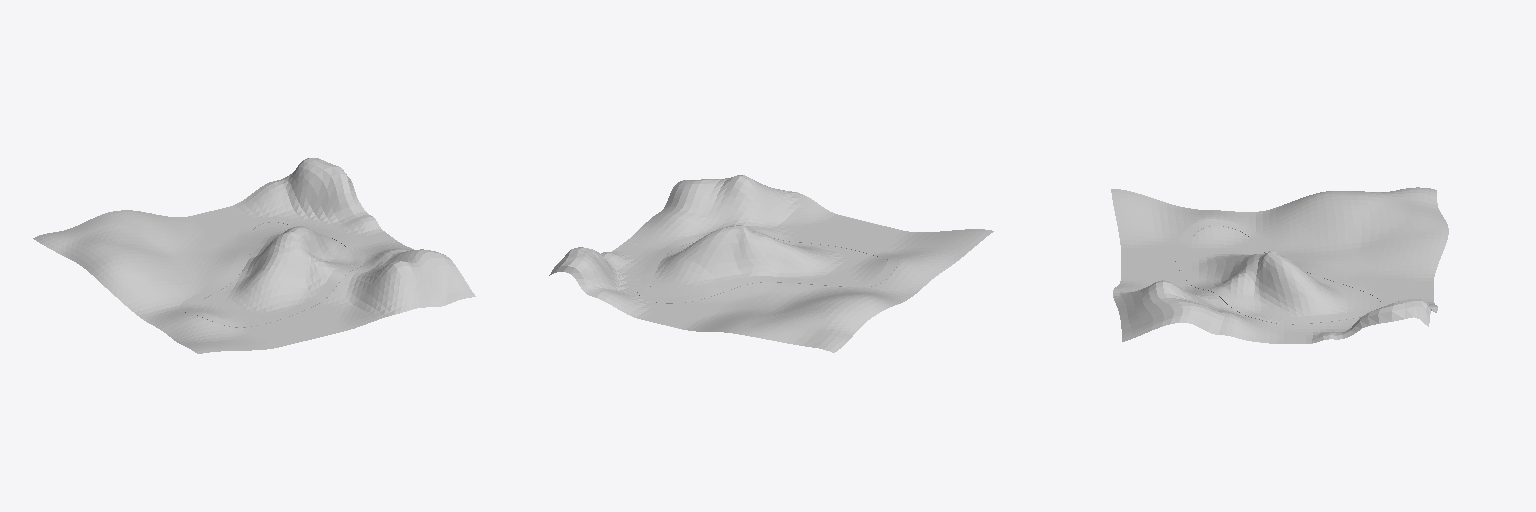
Rendered from dirt_track_w_terrain.obj.
The picture shows the model from 3 angles: view 1: azimuth 30°, elevation 25°; view 2: azimuth 150°, elevation 25°; view 3: azimuth 270°, elevation 25°; orthographic projection.
Visible parts, largest first — view 1: terrain, Cube; view 2: terrain, Cube; view 3: terrain, Cube.
Boxes of the visible parts, x1,y1,x2,y2 form: terrain: [33, 158, 475, 353]; Cube: [178, 217, 365, 327]; terrain: [549, 175, 993, 352]; Cube: [637, 227, 899, 303]; terrain: [1111, 187, 1448, 343]; Cube: [1174, 219, 1392, 324].
Bounding box in the file's own units: 162 × 20.41 × 162.